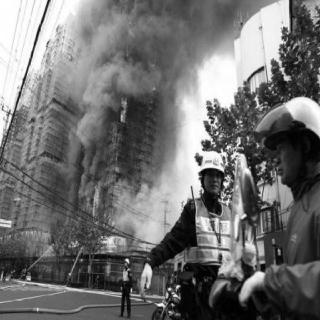Fire: (78, 175, 114, 229), (114, 84, 132, 144), (124, 15, 138, 67)
Smoke: (67, 1, 113, 179), (124, 164, 184, 256)
